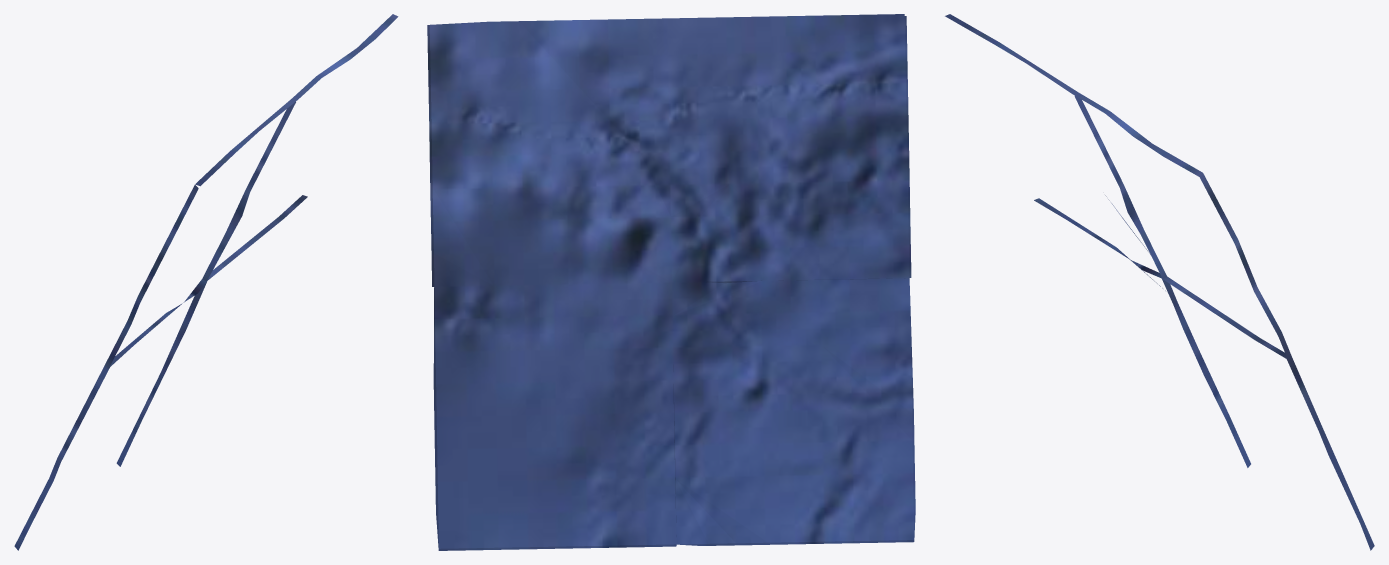
3 views of the same model, side by side, from view 1: azimuth 30°, elevation 25°; view 2: azimuth 150°, elevation 25°; view 3: azimuth 270°, elevation 25° (orthographic). The views are drawn at different scales.
Size of the model in its own units: 38864 by 36228 by 33376.
Materials: 1 (1 with a texture image).
